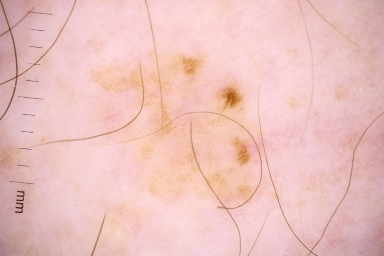nevus: (153, 137, 253, 210), (221, 89, 241, 111)
